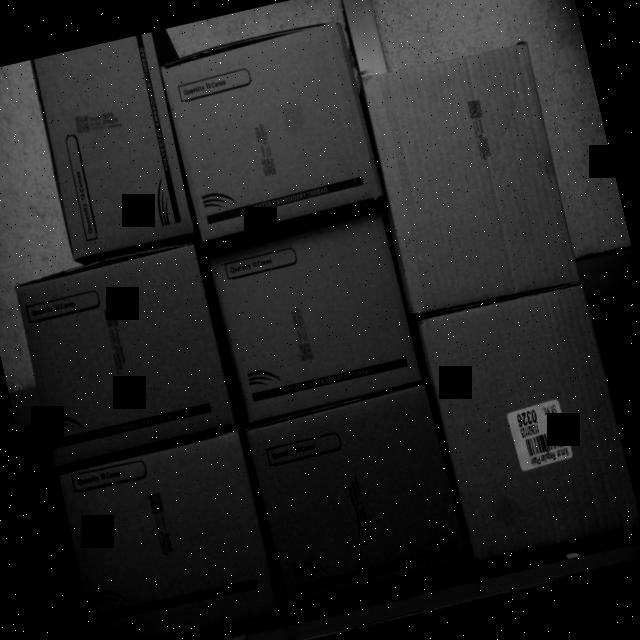box: (354, 38, 580, 316), (418, 284, 640, 567), (13, 241, 239, 468), (245, 389, 470, 608), (160, 20, 386, 238), (56, 434, 285, 640), (204, 208, 420, 418), (28, 31, 195, 262)
